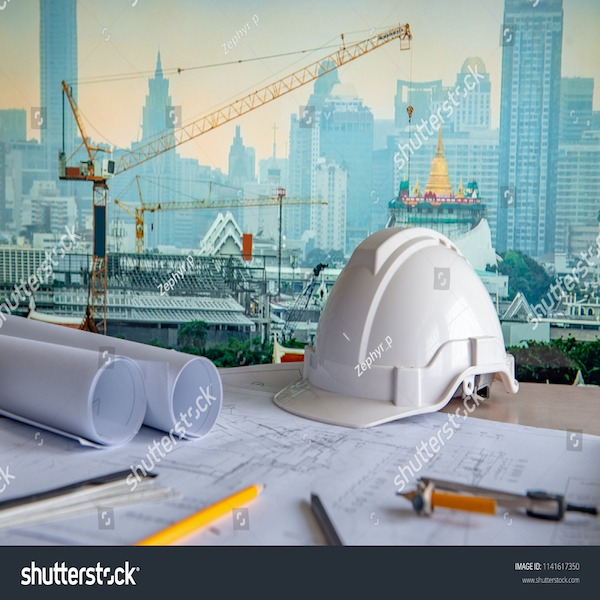helmet: (286, 226, 512, 418)
